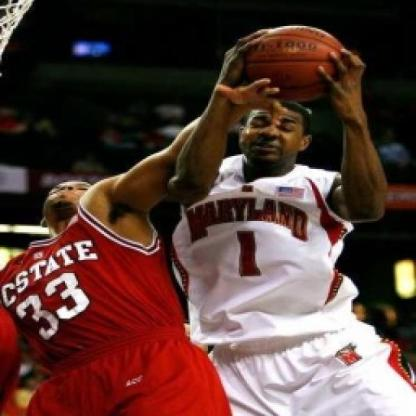basketball: (241, 17, 345, 103)
